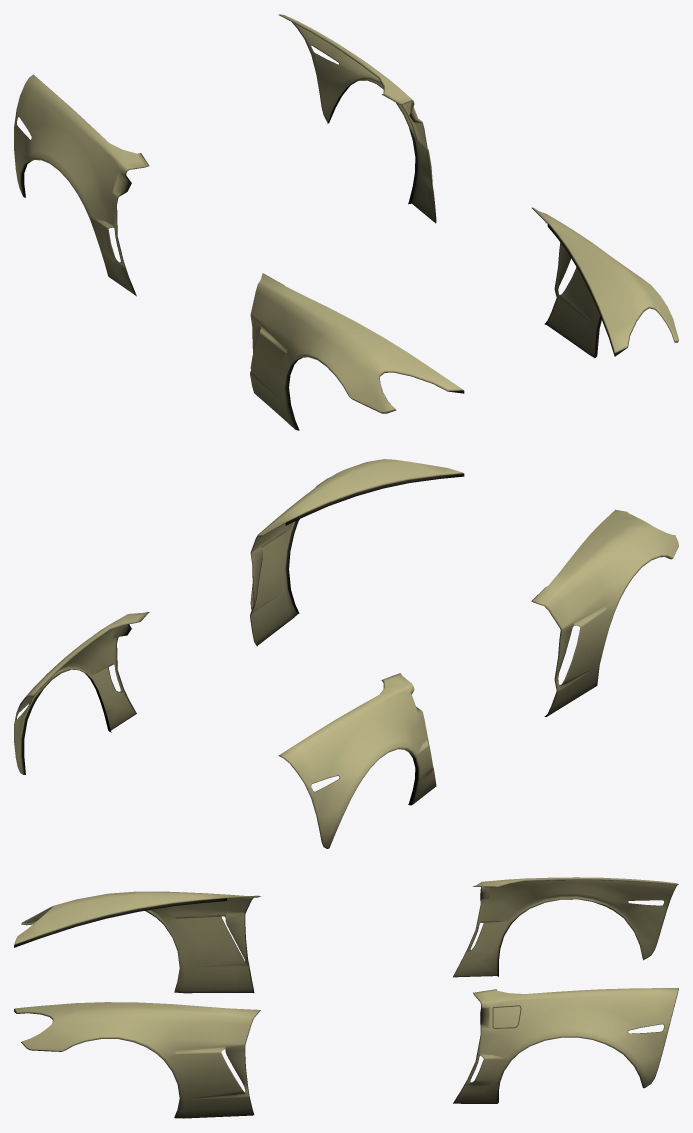
The model's file is Zr1_Fender_02_Duco.fbx.
3 views of the same model, one above another, from view 1: azimuth 30°, elevation 25°; view 2: azimuth 150°, elevation 25°; view 3: azimuth 270°, elevation 25° (orthographic). The views are drawn at different scales.
Visible parts, largest first — view 1: Zr1_Fender_02_Duco; view 2: Zr1_Fender_02_Duco; view 3: Zr1_Fender_02_Duco.
Boxes of the visible parts, x1,y1,x2,y2 form: Zr1_Fender_02_Duco: [14, 14, 678, 430]; Zr1_Fender_02_Duco: [14, 459, 678, 848]; Zr1_Fender_02_Duco: [14, 877, 678, 1118].
Bounding box in the file's own units: 193 × 78.4 × 387.
